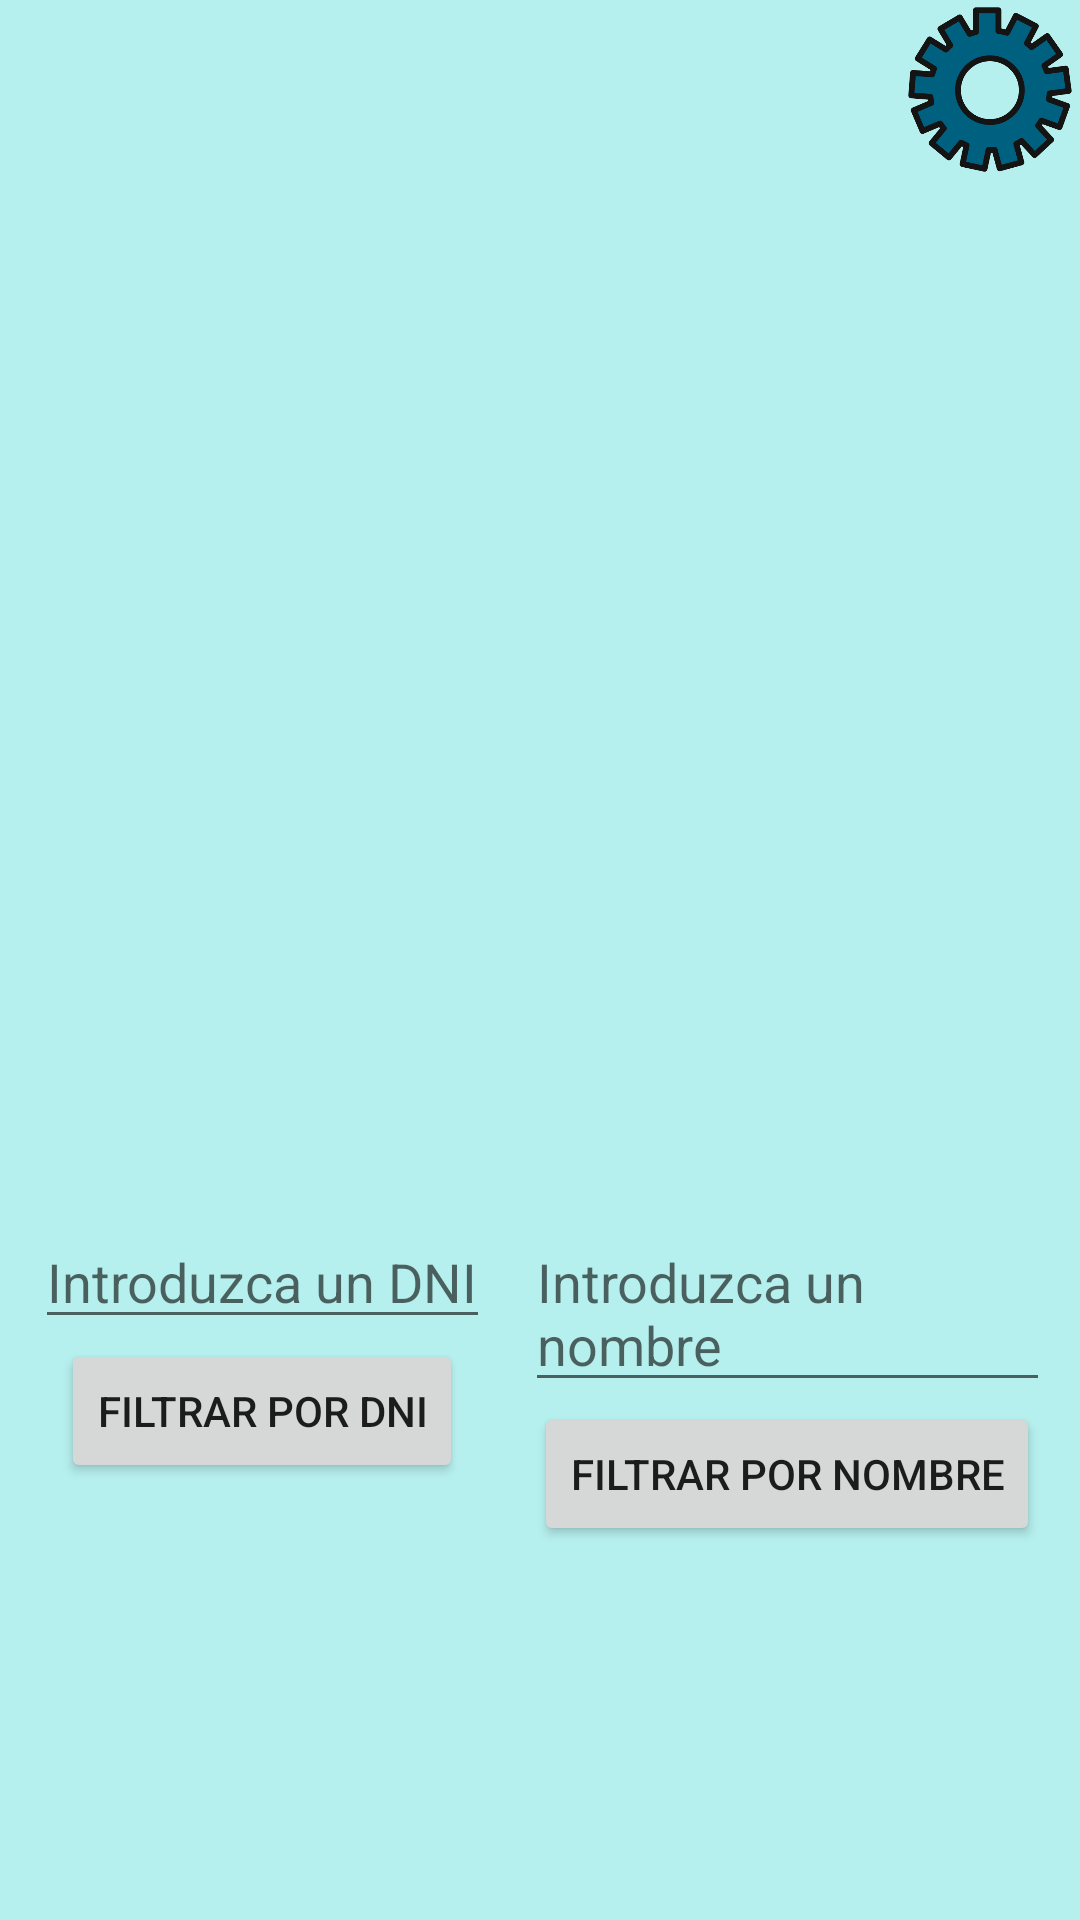

Named icons in this screenshot (1080 × 1920) and their centers, point (x, y):
ajustes tienda mascotas: point (990, 89)
